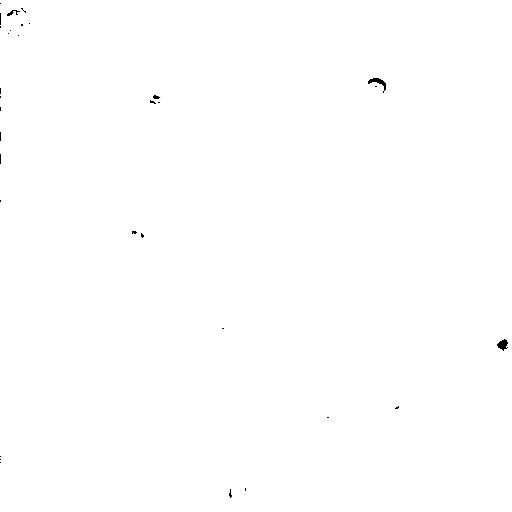micro-algae: (376, 387, 413, 424), (5, 441, 43, 476), (481, 324, 512, 361), (2, 6, 31, 37), (122, 223, 151, 249), (363, 75, 387, 97), (229, 479, 247, 503), (1, 91, 8, 108)
